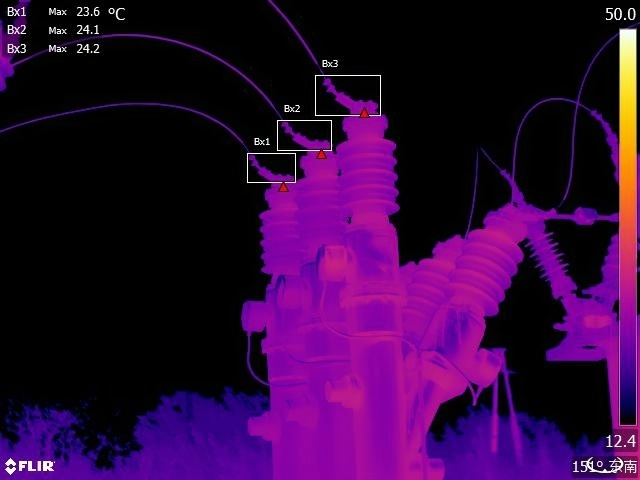post insulator: (526, 218, 578, 298), (595, 228, 619, 302)
potential transformer: (413, 205, 550, 385), (315, 91, 411, 302), (276, 133, 349, 329), (240, 170, 301, 366), (392, 233, 476, 357)
switch: (518, 194, 623, 233)
